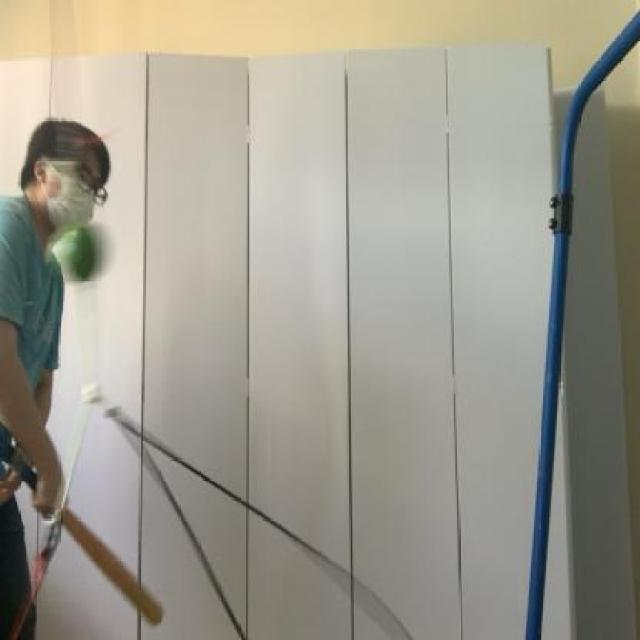baseball: (37, 216, 117, 284)
